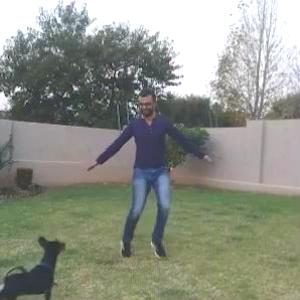land: (82, 70, 228, 267)
